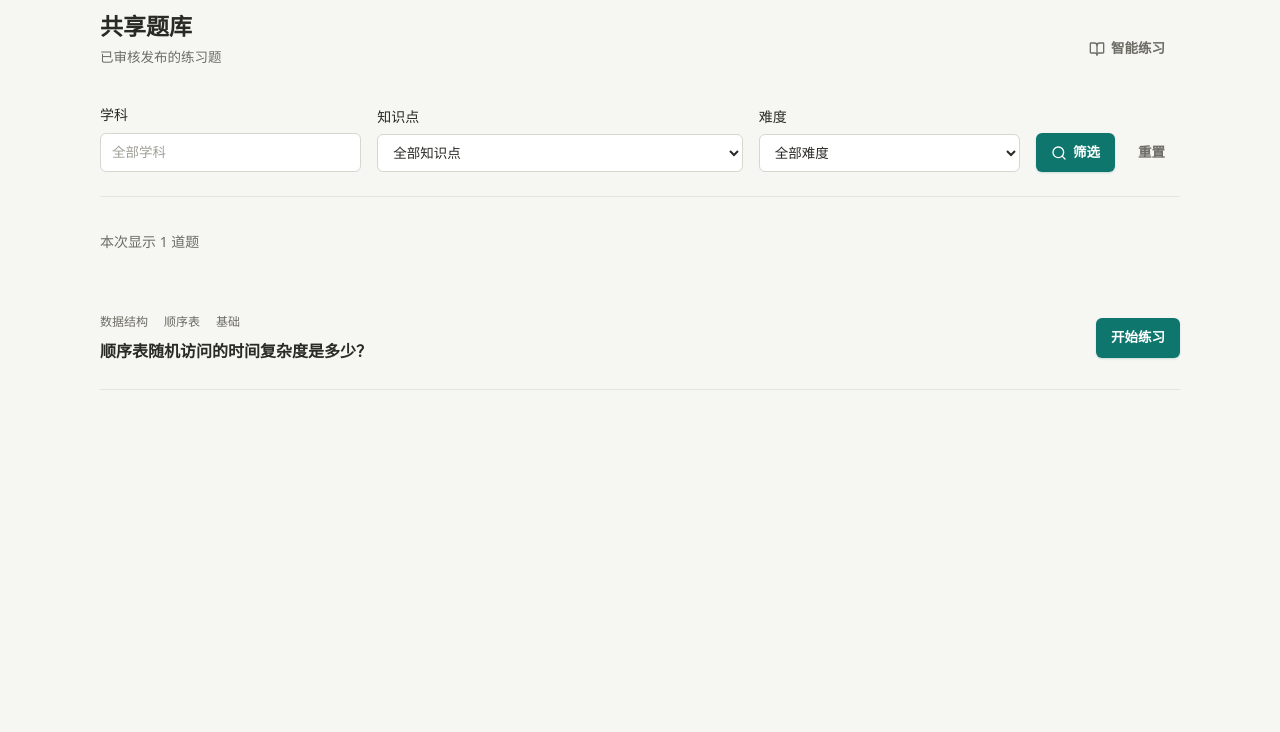
Test: 用户共享题库 › 进入练习复用真实答题卡，作答成功后再显示解析
Click the button with id "bank-start-31": click(1138, 338) [1096,318,1180,358]
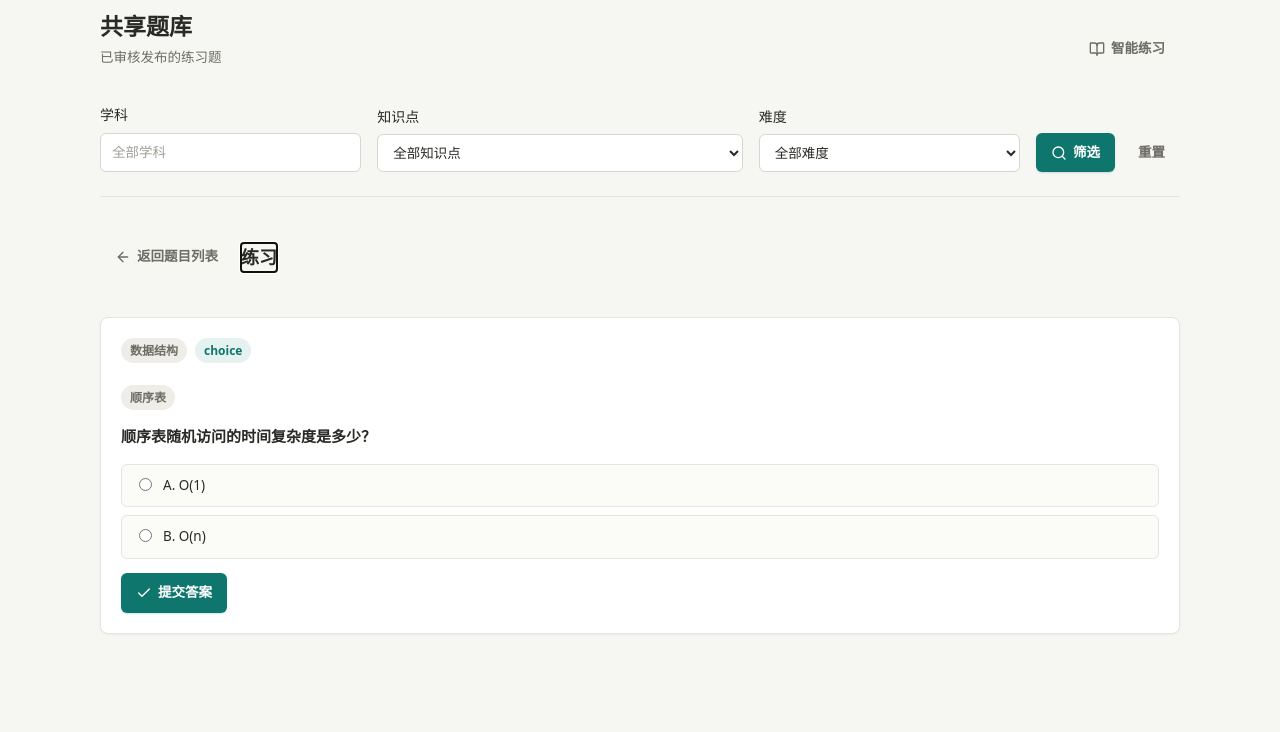
Click the radio button labelled "A. O(1)": click(146, 484) [139,478,152,491]
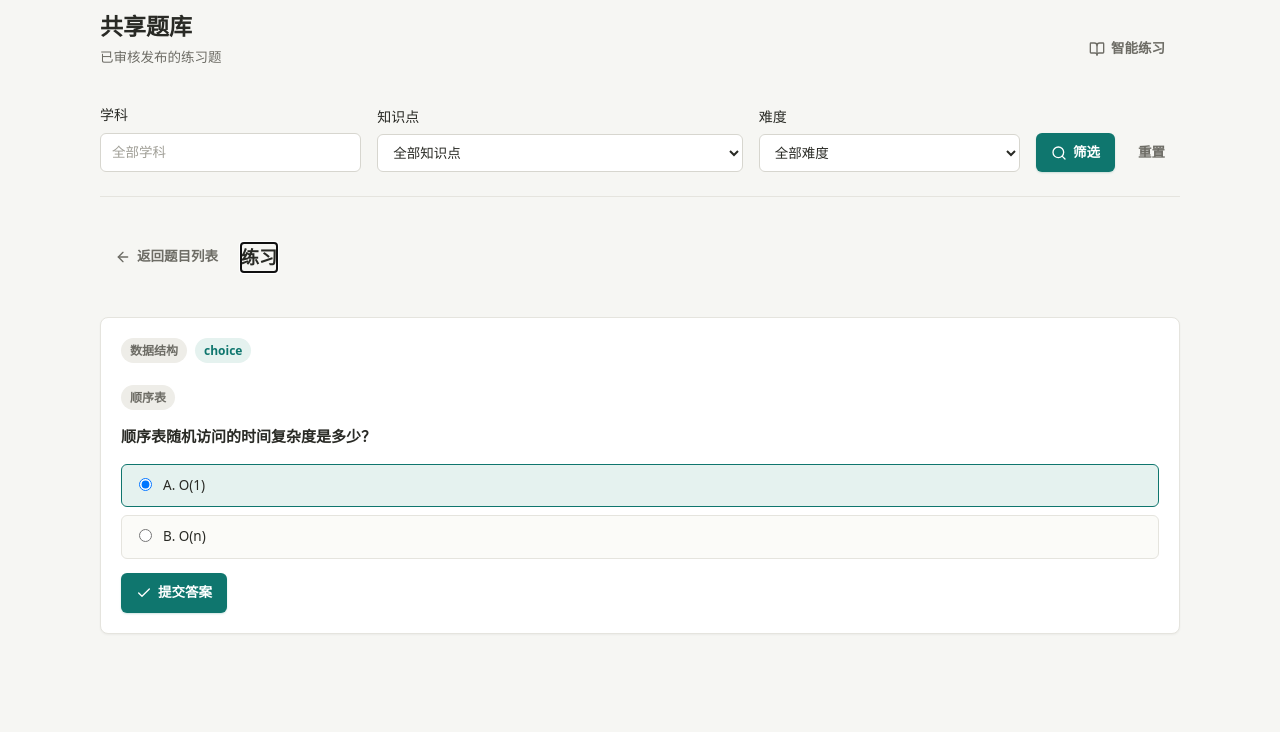
Click the button "提交答案": click(174, 593) [121,573,227,613]
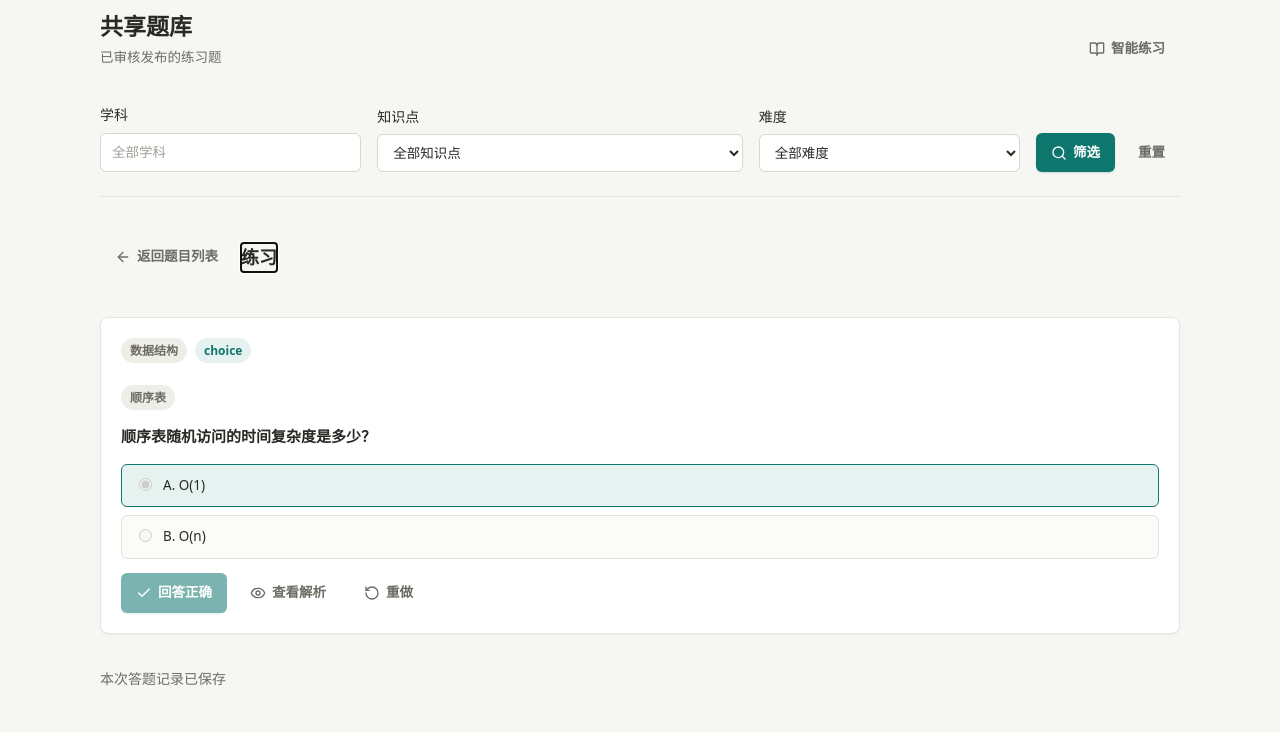
expect the text "本次答题记录已保存" is shown: met, box [100,669,226,688]
Click the button "查看解析": click(288, 593) [235,573,341,613]
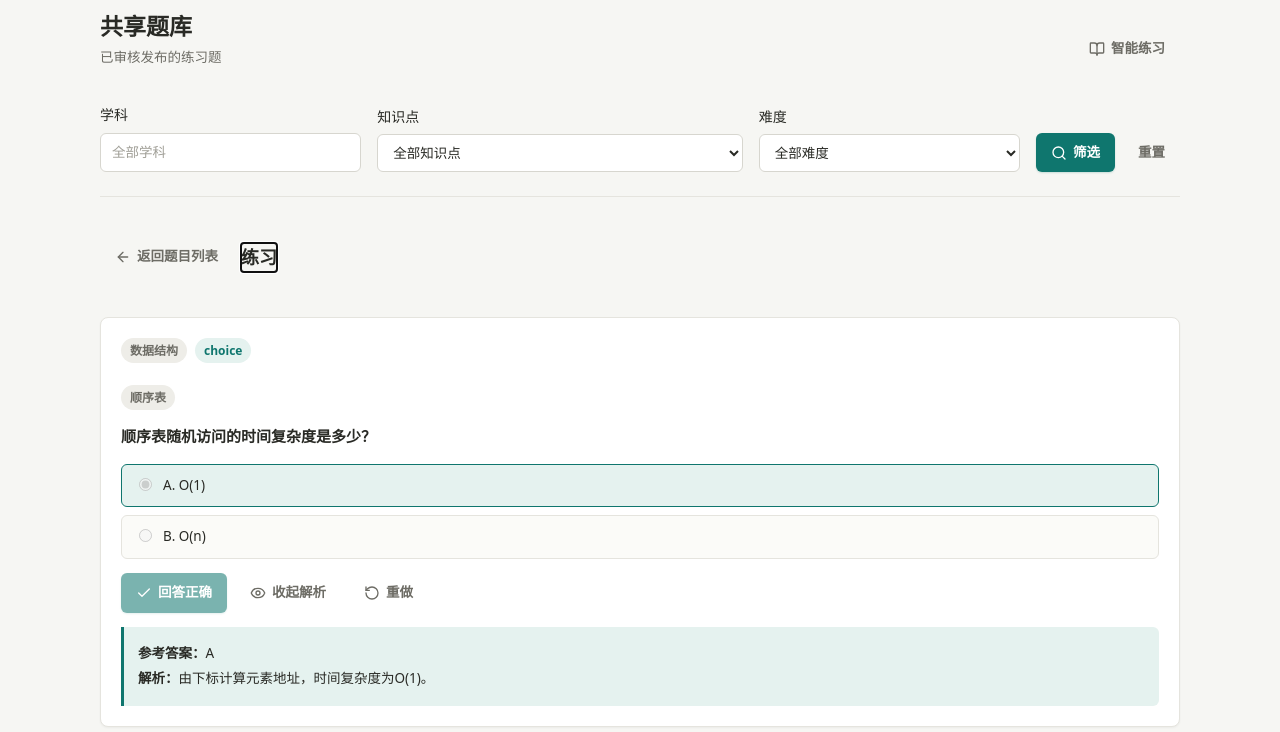
expect the text "由下标计算元素地址，时间复杂度为O(1)。" is shown: met, box [178,669,434,687]
Click the button "返回题目列表": click(166, 257) [100,237,233,277]
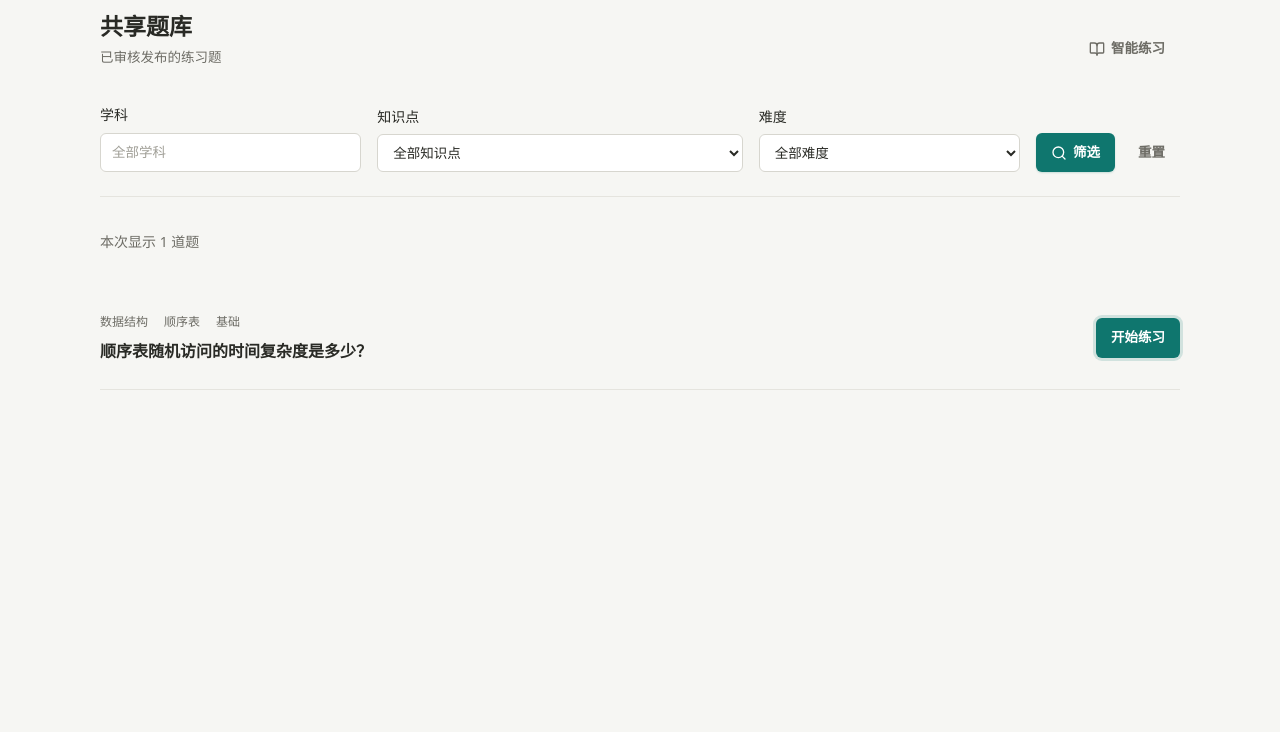
expect the button with id "bank-start-31" is shown: met, box [1096,318,1180,358]
